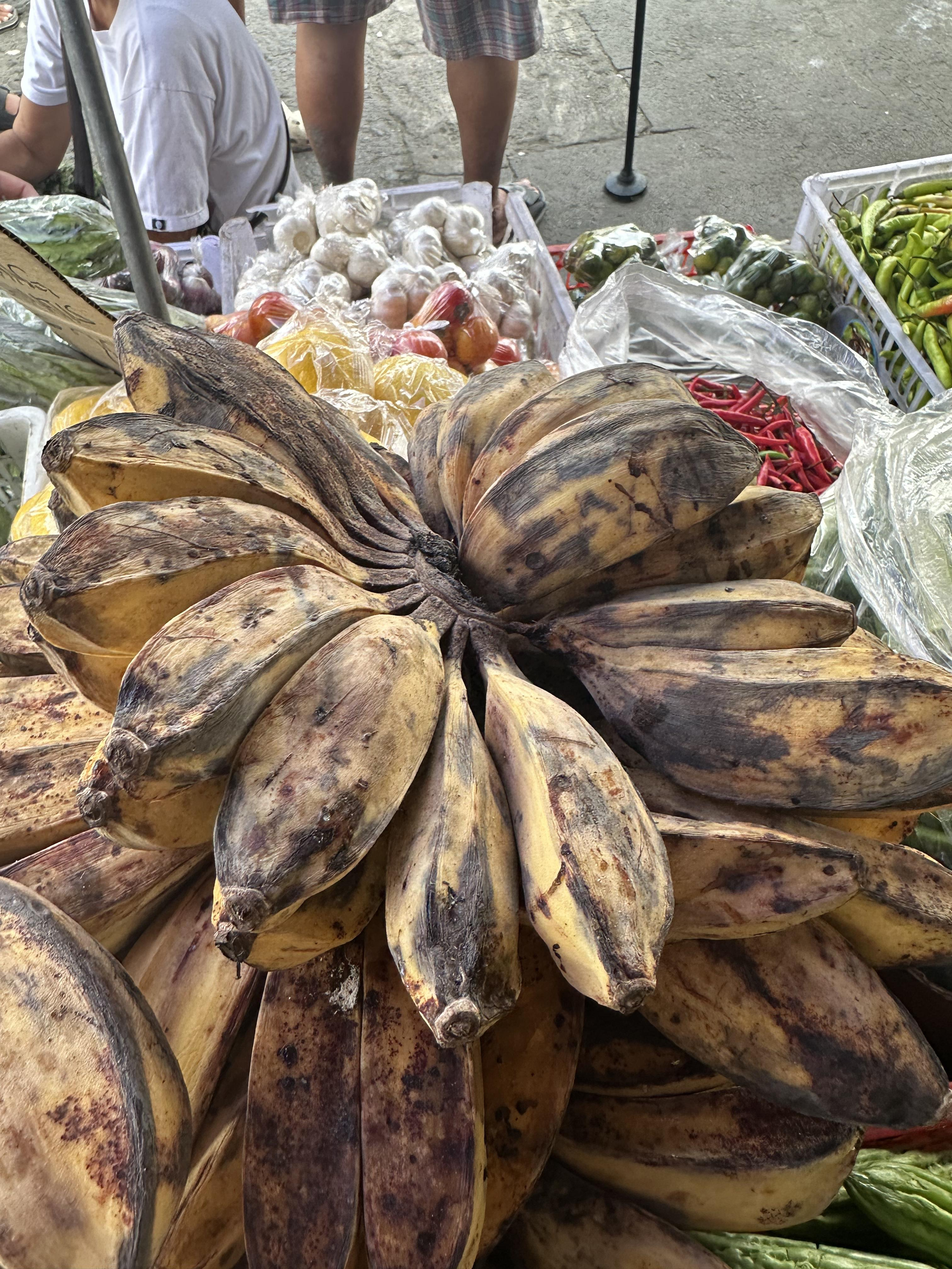ripe: (22, 310, 672, 1045), (2, 535, 589, 1269), (409, 359, 952, 821), (625, 765, 952, 1135), (479, 999, 864, 1269)
